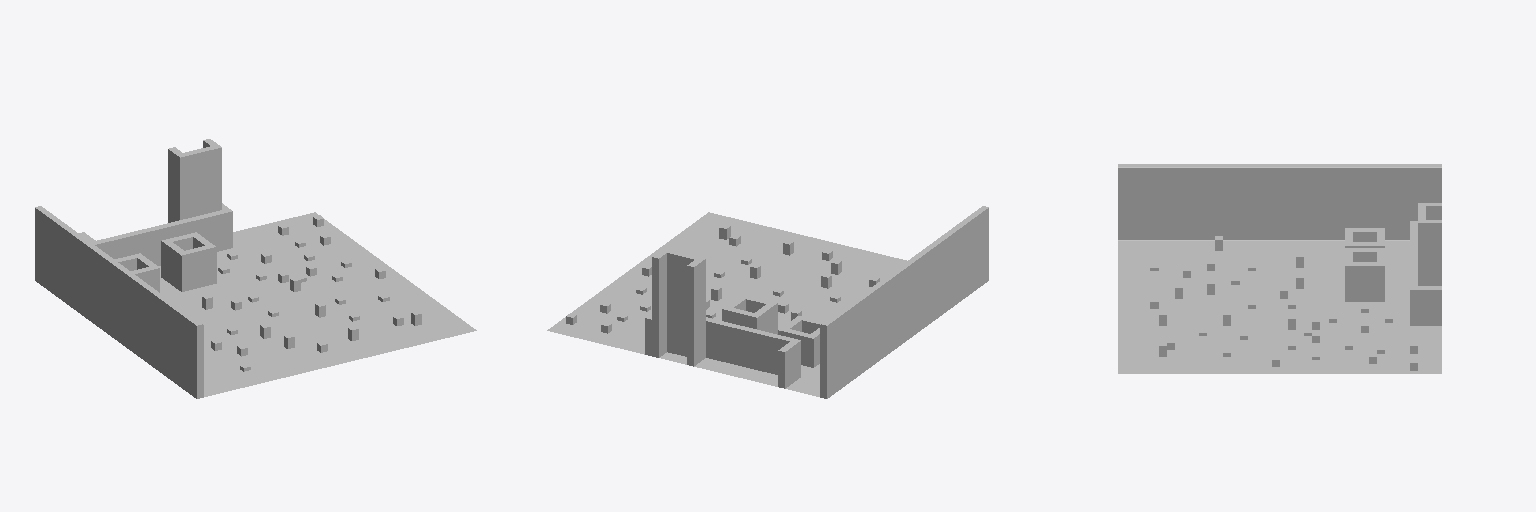
File: world_mesh.obj
3 views of the same model, side by side, from view 1: azimuth 30°, elevation 25°; view 2: azimuth 150°, elevation 25°; view 3: azimuth 270°, elevation 25° (orthographic).
Visible parts, largest first — view 1: Plane; view 2: Plane; view 3: Plane.
Part boxes in pixels (left/top/right/bottom): Plane: left=35, top=139, right=476, bottom=398; Plane: left=547, top=206, right=988, bottom=398; Plane: left=1118, top=164, right=1441, bottom=373.
Bounding box in the file's own units: 40 × 13.54 × 40.